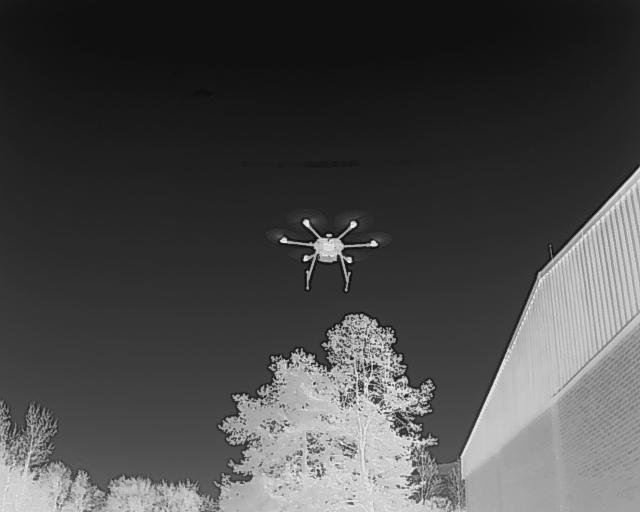drone: (270, 206, 389, 297)
